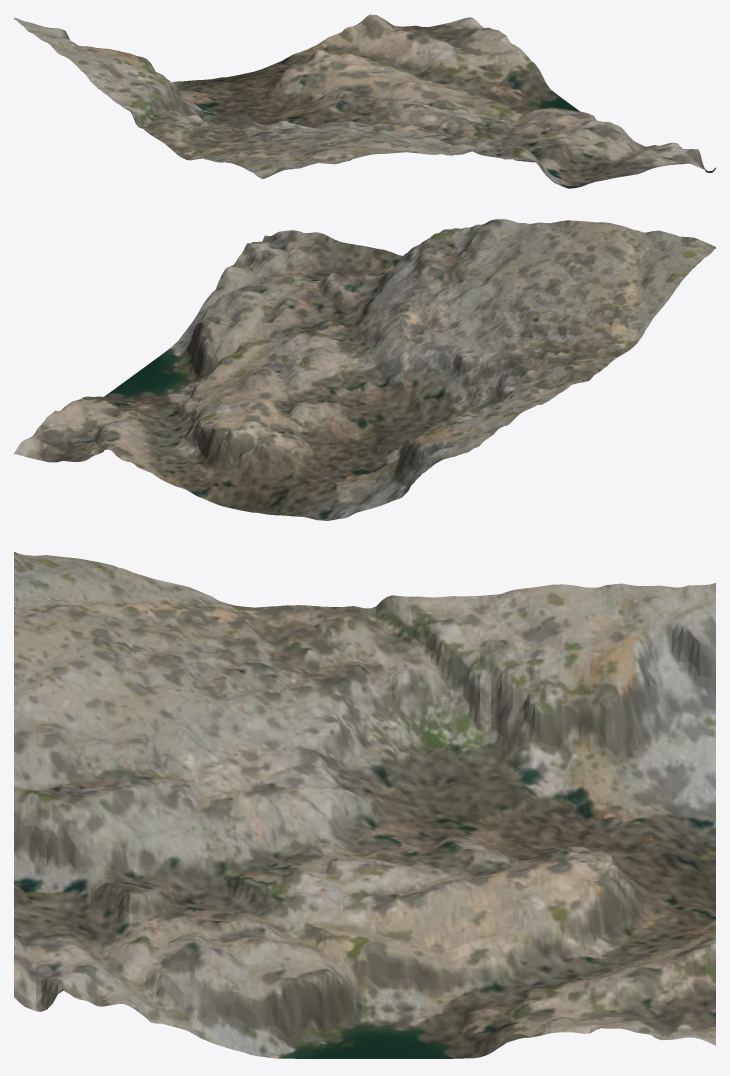
The picture shows the model from 3 angles, top to bottom: view 1: azimuth 30°, elevation 25°; view 2: azimuth 150°, elevation 25°; view 3: azimuth 270°, elevation 25°; orthographic projection. The views are drawn at different scales.
Size of the model in its own units: 250 by 78.48 by 241.
Materials: 1 (1 with a texture image).
